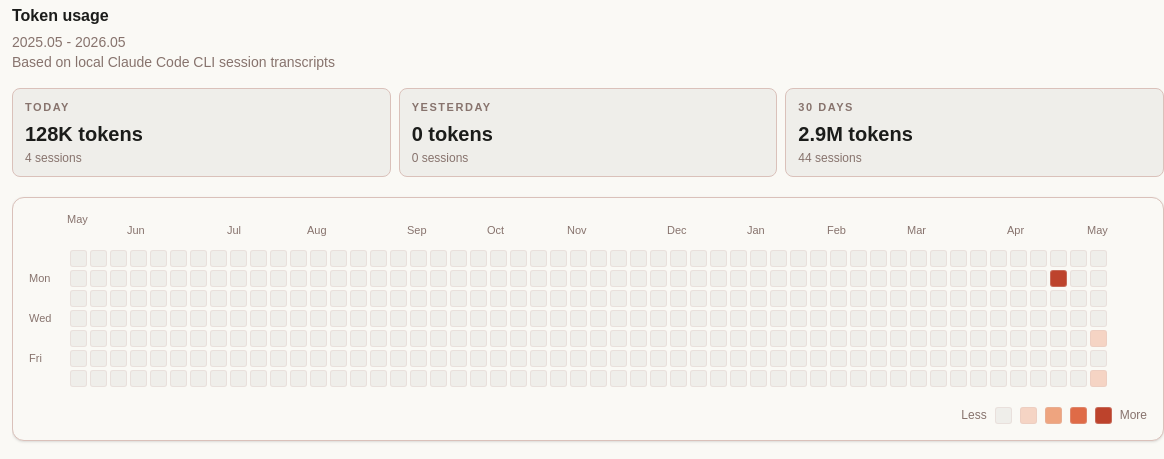
Test case: ActivitySettings › shows a compact hover preview without a persistent selected-day panel
Hover over the cell named "May 9, 2026: 4 sessions, 128K tokens" at (1098, 378), box [1090,370,1107,386]
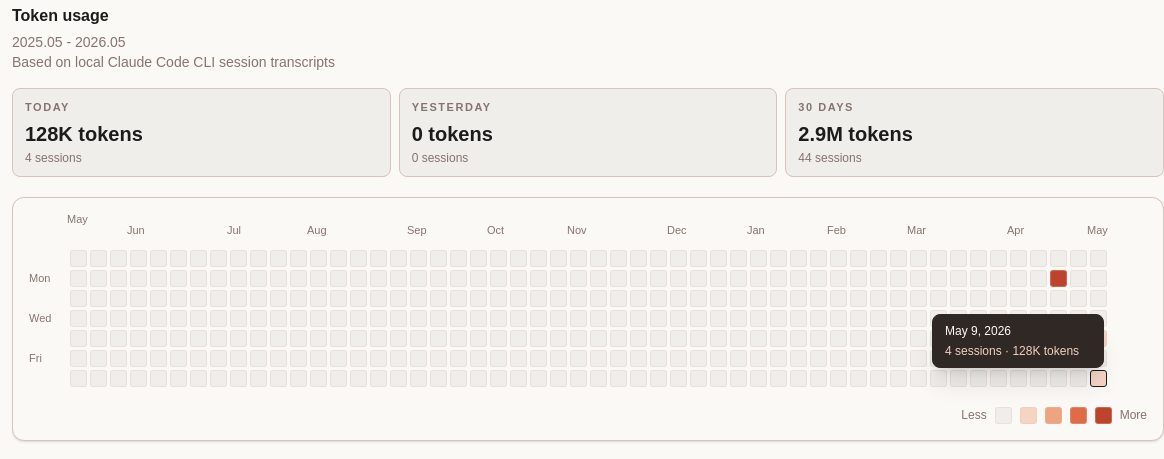
Check: the tooltip shows "May 9, 2026", box [945,324,1011,338]
Check: the tooltip shows "4 sessions · 128K tokens", box [932,314,1104,368]
